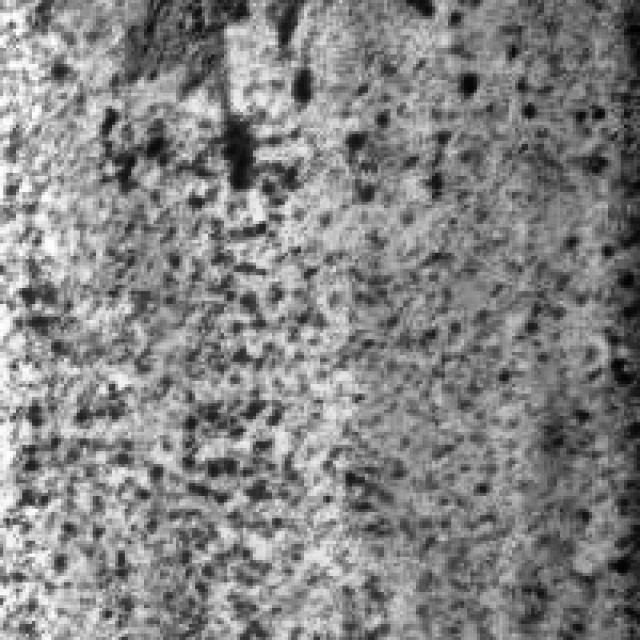Rolled_in_Scale: (6, 0, 628, 618)
